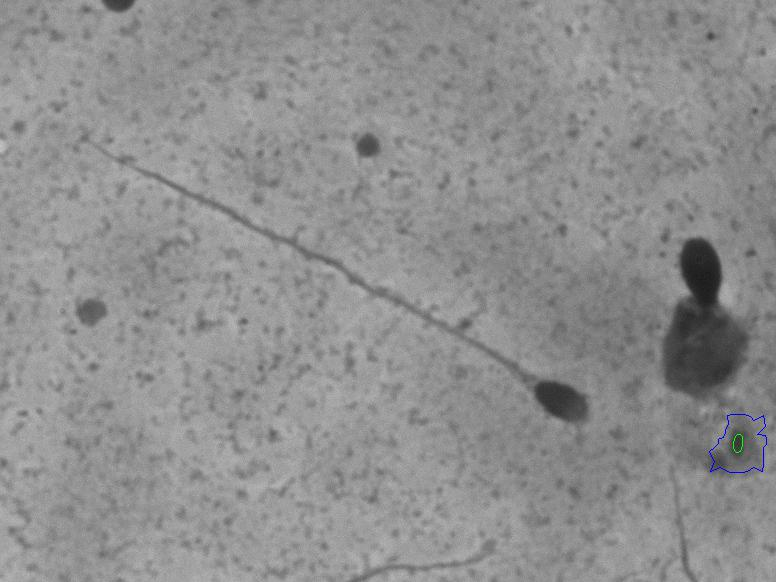Normal: (69, 116, 607, 441)
